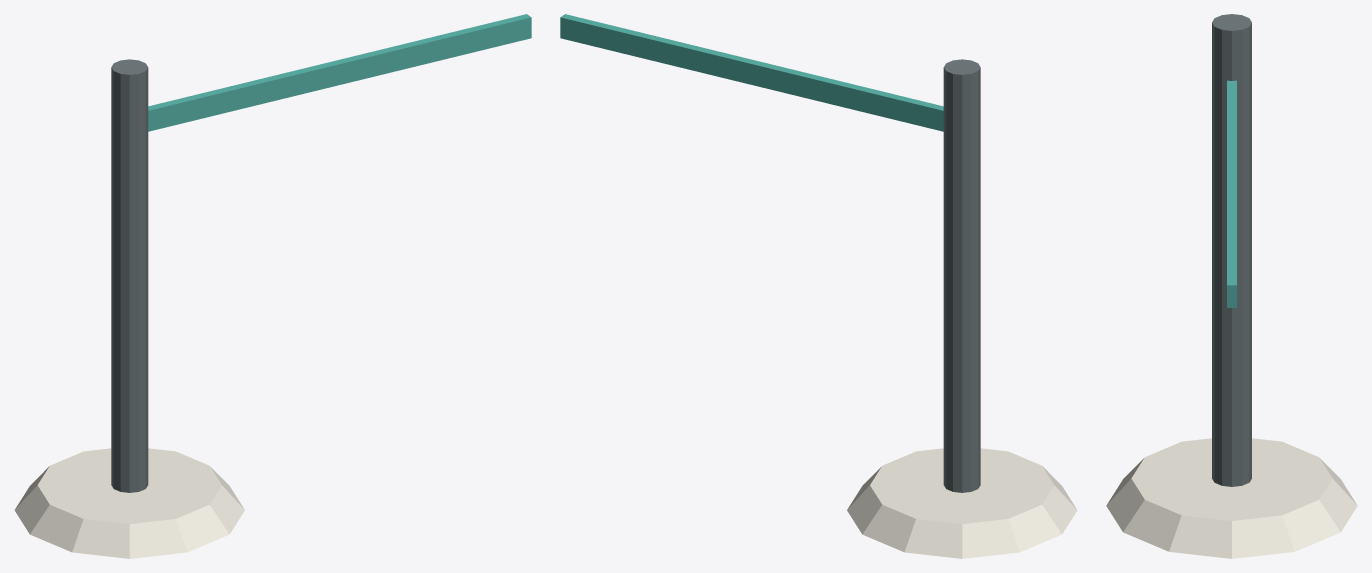
File: supermarket-operations-queue-stanchion-60af65af__26777.glb
3 views of the same model, side by side, from view 1: azimuth 30°, elevation 25°; view 2: azimuth 150°, elevation 25°; view 3: azimuth 270°, elevation 25° (orthographic). The views are drawn at different scales.
Visible parts, largest first — view 1: queue-stanchion; view 2: queue-stanchion; view 3: queue-stanchion.
Boxes of the visible parts, bbox=[...] form: queue-stanchion: bbox=[14, 14, 531, 558]; queue-stanchion: bbox=[560, 14, 1077, 558]; queue-stanchion: bbox=[1106, 14, 1357, 558].
Size of the model in its own units: 1.25 by 1.06 by 0.5.
